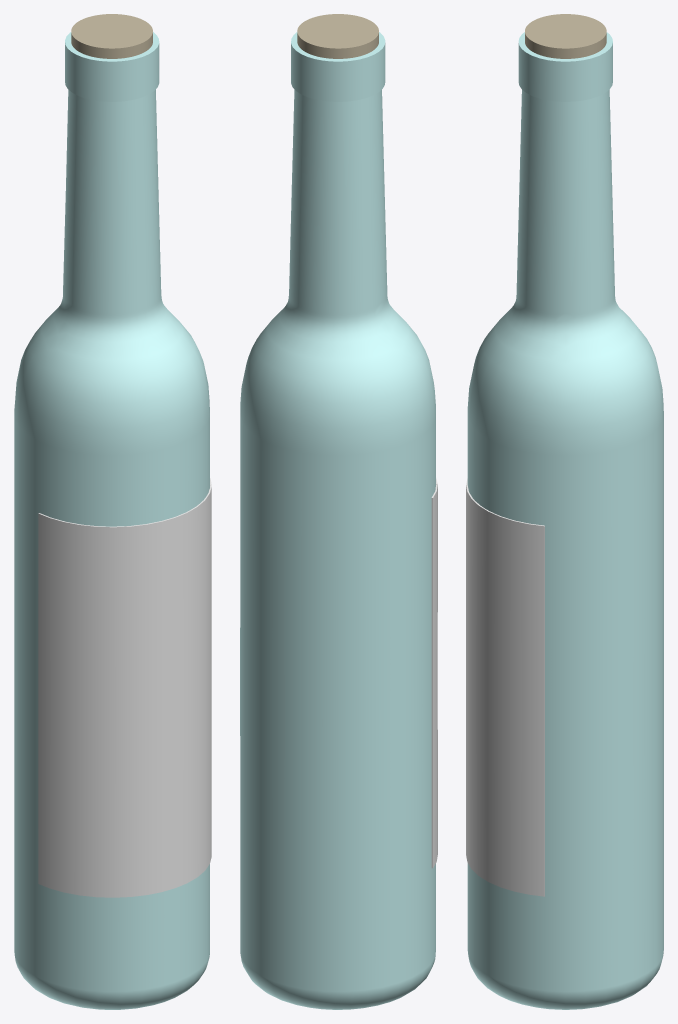
Rendered from 891_sakebottle.glb.
3 views of the same model, side by side, from view 1: azimuth 30°, elevation 25°; view 2: azimuth 150°, elevation 25°; view 3: azimuth 270°, elevation 25° (orthographic).
Parts seen in each view (by area): view 1: Body, label, huta; view 2: Body, huta, label; view 3: Body, label, huta.
Part boxes in pixels (x1,y1,x2,y2): Body: (14,32,209,1009); label: (38,478,211,897); huta: (71,14,152,58); Body: (240,32,435,1009); huta: (297,14,378,58); label: (431,478,437,868); Body: (467,32,663,1009); label: (466,478,544,896); huta: (525,14,606,58).
Size of the model in its own units: 0.0616 by 0.3285 by 0.0621.
